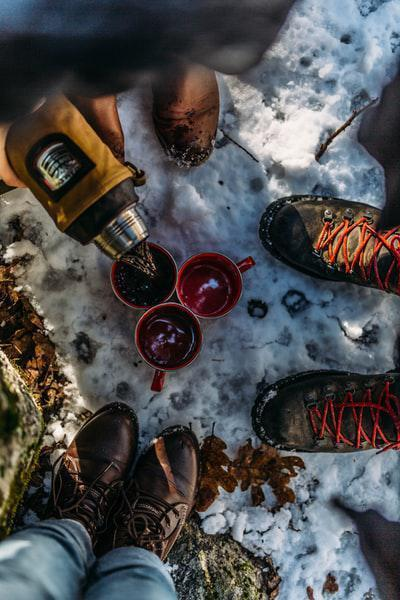vest: (260, 192, 399, 293), (252, 369, 398, 453), (47, 402, 139, 534), (108, 423, 200, 554), (154, 68, 221, 167)
